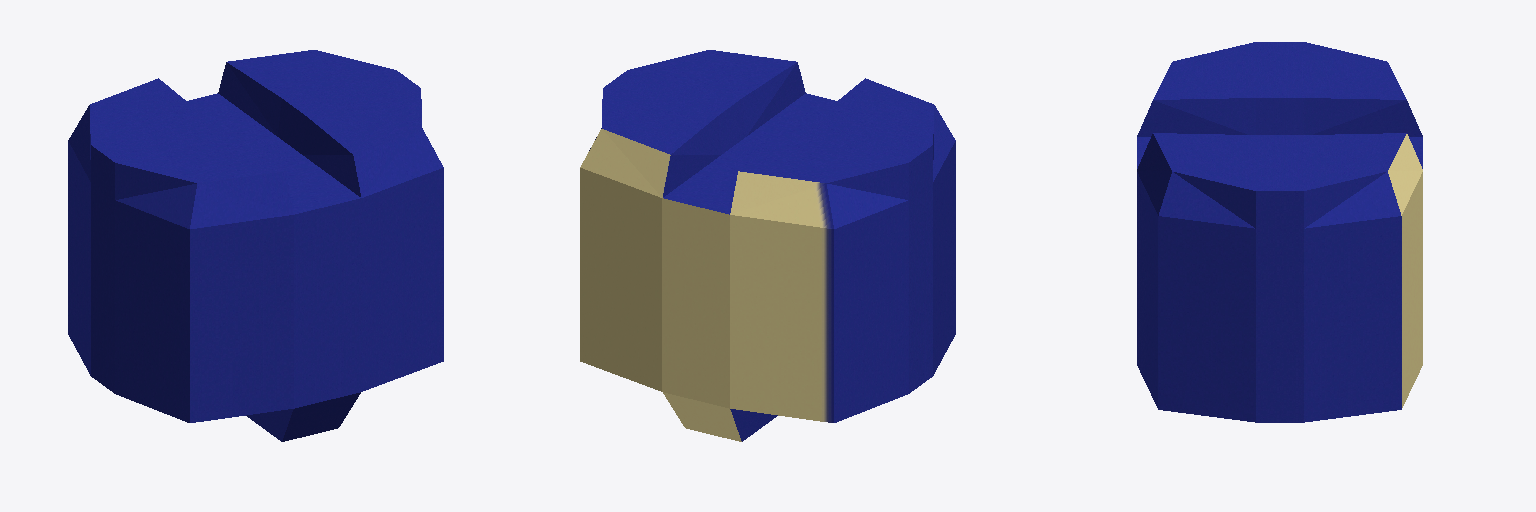
3 views of the same model, side by side, from view 1: azimuth 30°, elevation 25°; view 2: azimuth 150°, elevation 25°; view 3: azimuth 270°, elevation 25° (orthographic).
Parts seen in each view (by area): view 1: B_C; view 2: B_C; view 3: B_C.
Boxes of the visible parts, x1,y1,x2,y2 form: B_C: [68, 50, 443, 441]; B_C: [580, 50, 955, 441]; B_C: [1137, 42, 1422, 422].
Bounding box in the file's own units: 4.42 × 3.85 × 3.58.
Materials: 1 (1 with a texture image).